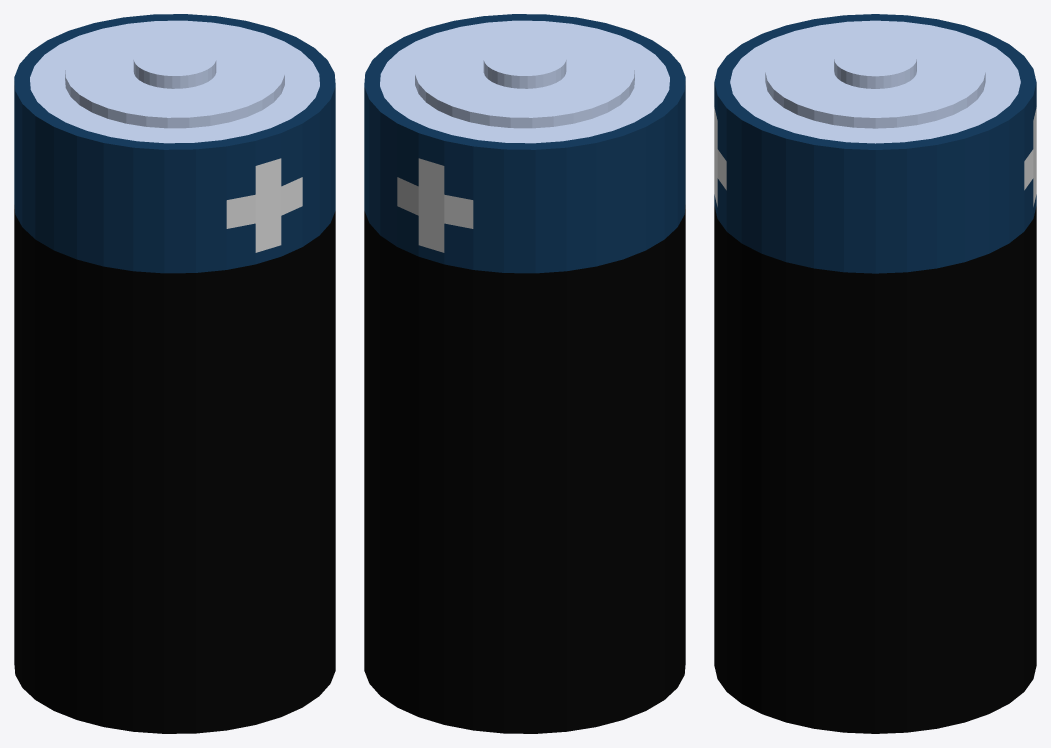
The model's file is Battery.fbx.
3 renders of one model, left to right at view 1: azimuth 30°, elevation 25°; view 2: azimuth 150°, elevation 25°; view 3: azimuth 270°, elevation 25°, orthographic.
Visible parts, largest first — view 1: Battery; view 2: Battery; view 3: Battery.
Boxes of the visible parts, box(x1,y1,x2,y2) form: Battery: box(14, 14, 335, 733); Battery: box(364, 14, 685, 733); Battery: box(714, 14, 1036, 733).
Bounding box in the file's own units: 10.05 × 21.08 × 10.05.
